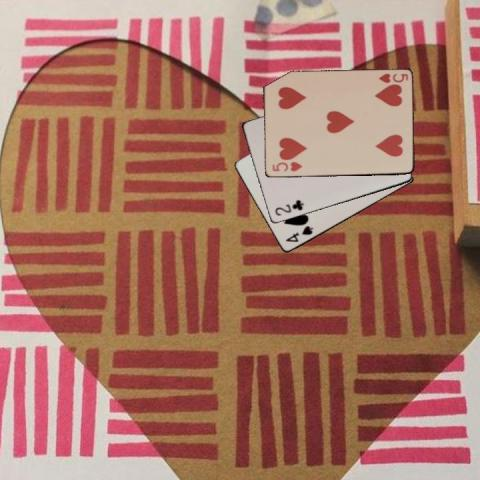2c: (272, 197, 305, 217)
4s: (282, 223, 314, 244)
5h: (270, 160, 304, 174), (375, 70, 409, 84)
